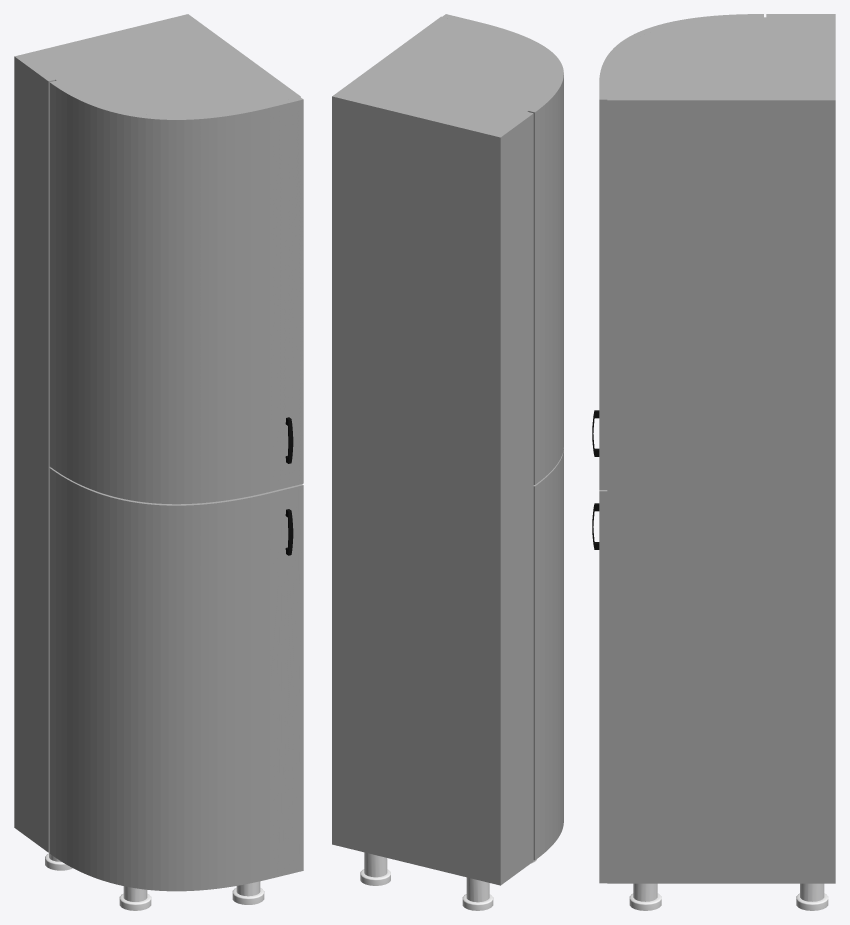
The picture shows the model from 3 angles, left to right: view 1: azimuth 30°, elevation 25°; view 2: azimuth 150°, elevation 25°; view 3: azimuth 270°, elevation 25°; orthographic projection. The views are drawn at different scales.
Visible parts, largest first — view 1: Line002, Line001, Box002, Box001, Cylinder008, Cylinder006; view 2: Box001, Box002, Line002, Line001, Cylinder007, Cylinder003; view 3: Box001, Line002, Line001, Cylinder006, Cylinder003.
Boxes of the visible parts, x1,y1,x2,y2 form: Line002: (49,80,303,504); Line001: (49,467,303,891); Box002: (14,55,55,852); Box001: (21,14,300,116); Cylinder008: (119,886,151,910); Cylinder006: (232,881,264,904); Box001: (332,16,555,883); Box002: (494,111,533,885); Line002: (442,14,563,484); Line001: (533,448,563,860); Cylinder007: (462,877,493,910); Cylinder003: (360,852,390,885); Box001: (607,17,835,883); Line002: (599,14,763,489); Line001: (599,490,607,883); Cylinder006: (629,883,661,910); Cylinder003: (796,883,828,910).
Size of the model in its own units: 0.5 by 2.22 by 0.5973.
Materials: 3 (1 with a texture image).
